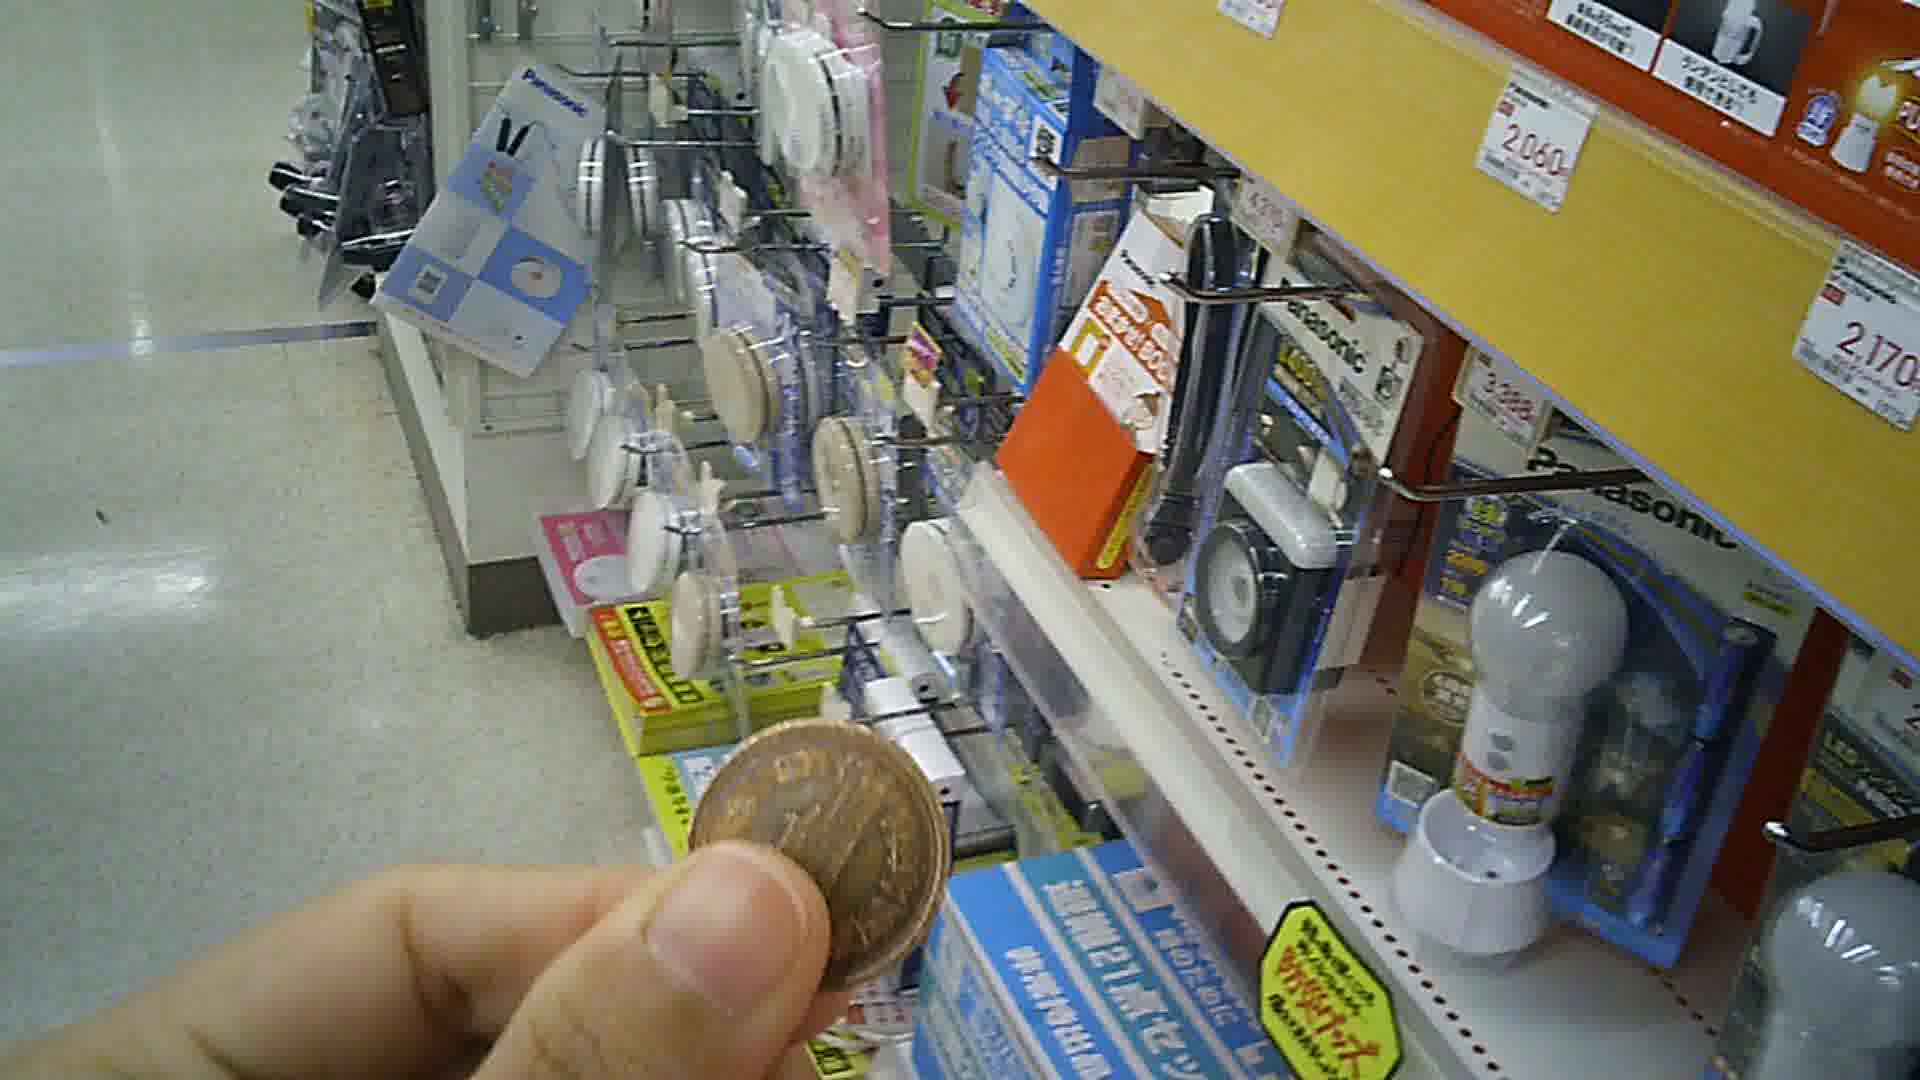10 Yen: (676, 712, 971, 988)
